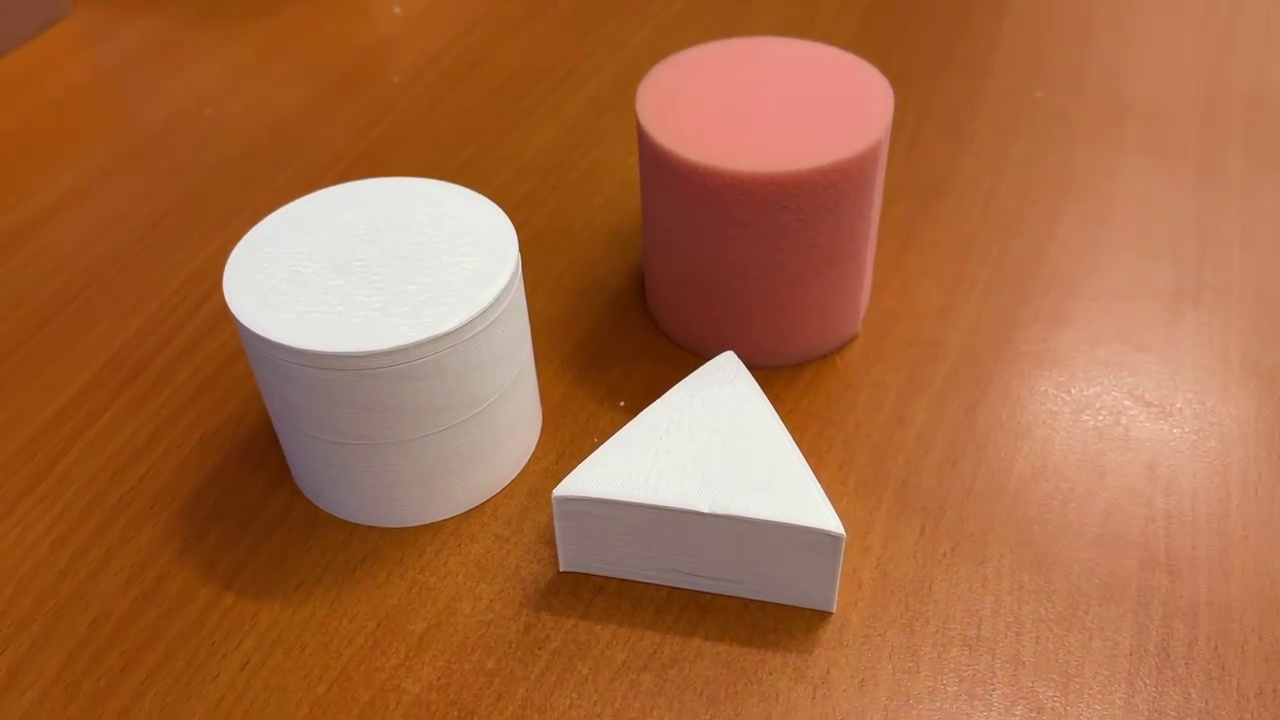Cylinder: (214, 171, 549, 532), (622, 27, 900, 373)
Triangle_short: (547, 340, 850, 631)
